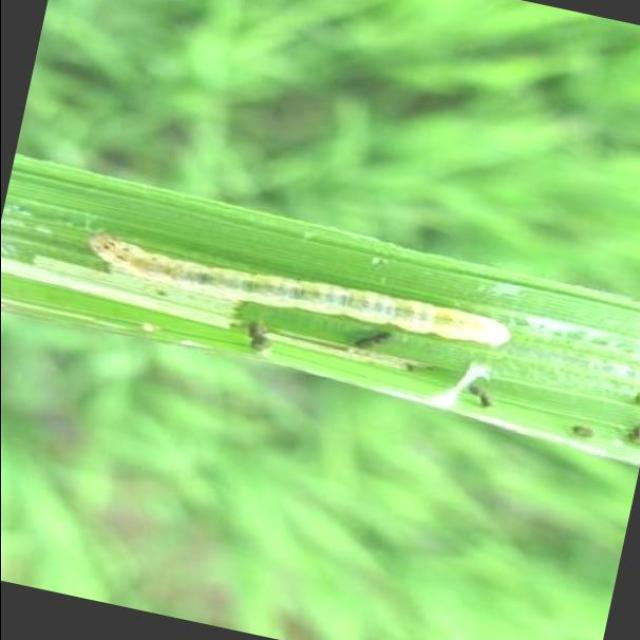leaf folder: (94, 236, 509, 345)
